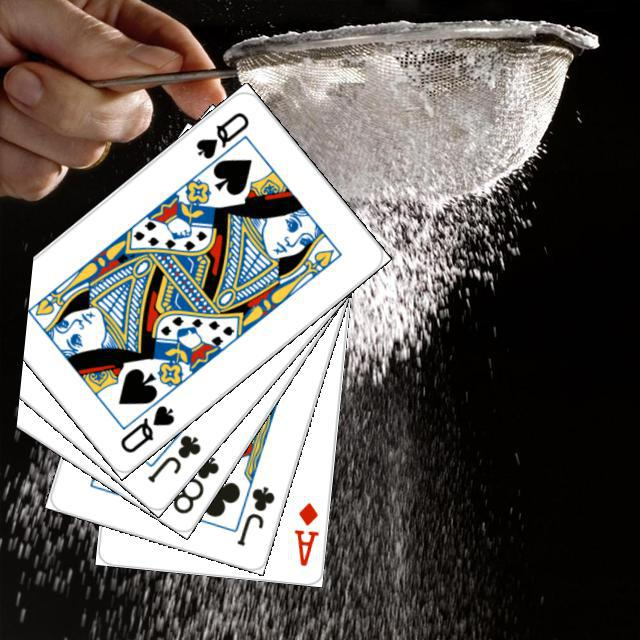8c: (167, 450, 221, 516)
Ad: (289, 497, 320, 568)
Jc: (142, 429, 203, 485), (232, 481, 277, 548)
Qs: (115, 400, 177, 455), (191, 107, 251, 161)
